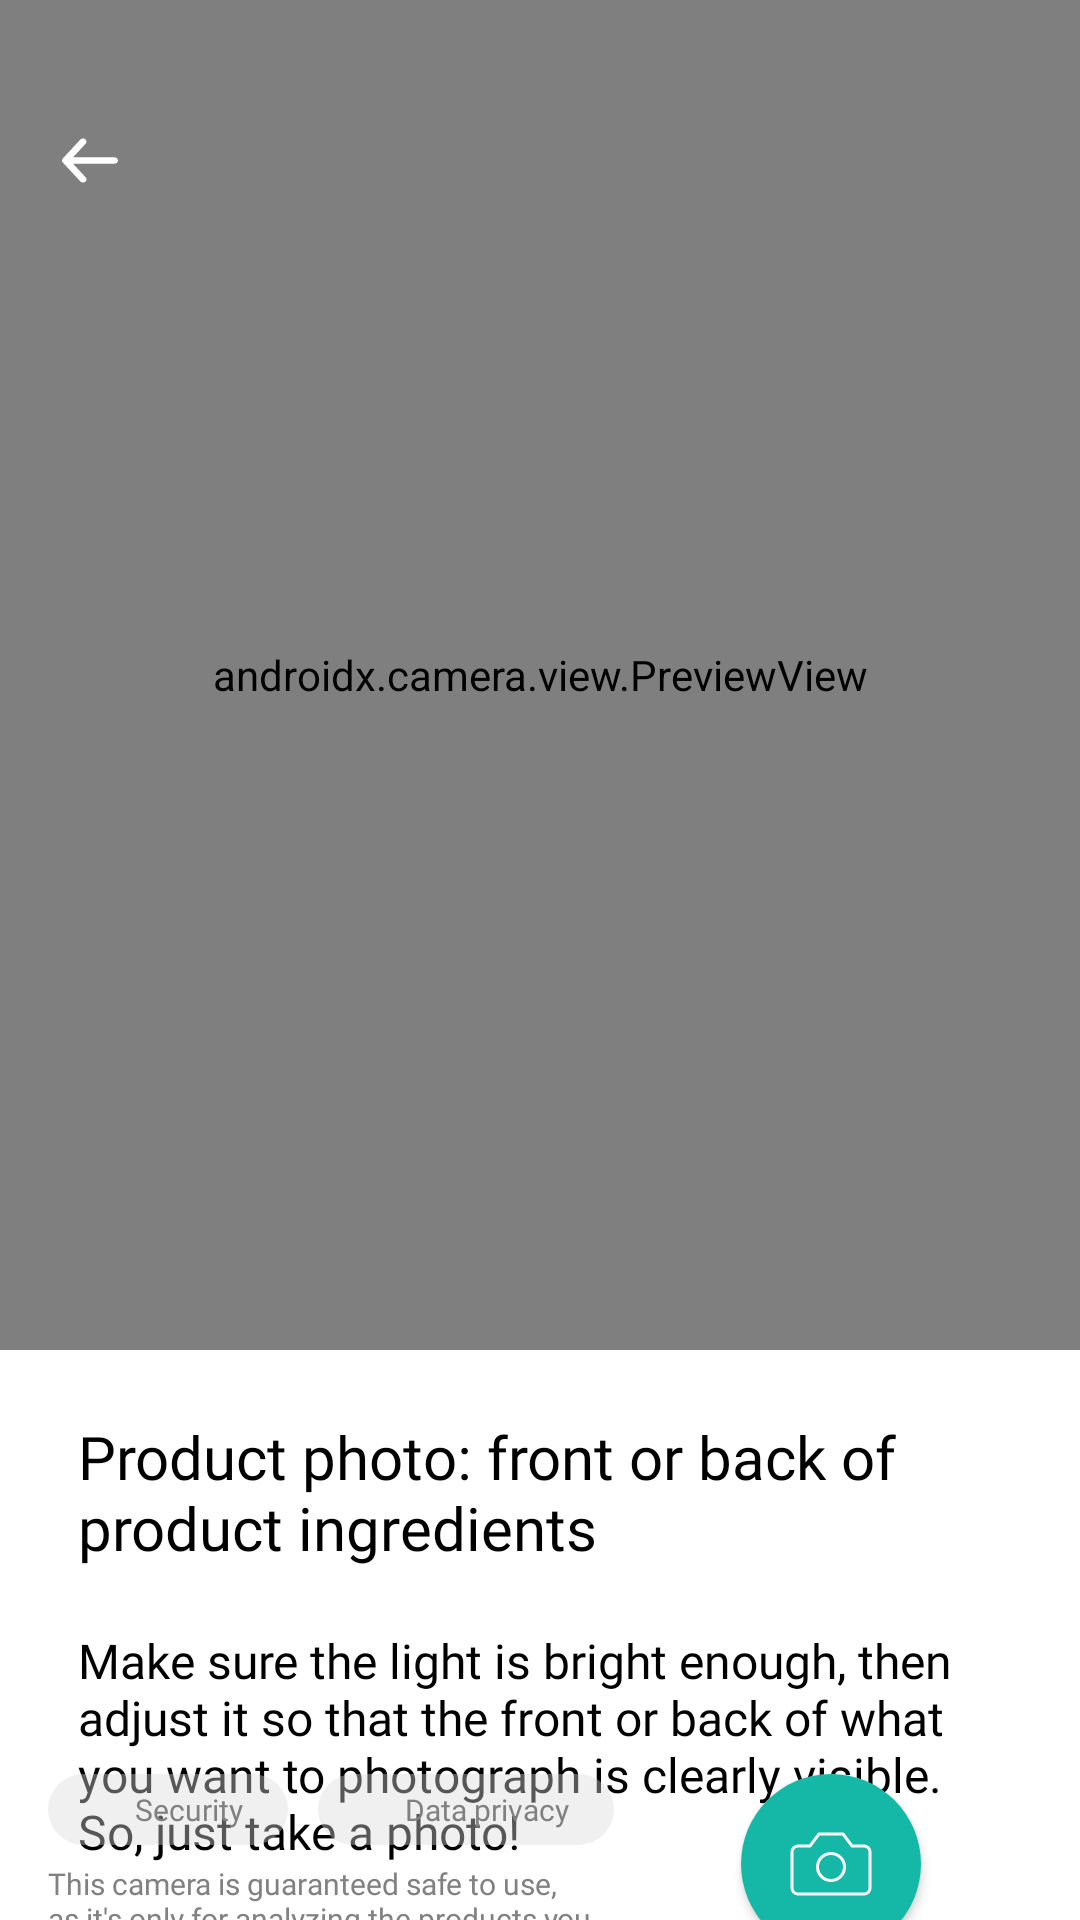

Locate icon controls on the screen. Image size 1080 x 1920, boxes as (x1, y1, x2, y2).
back arrow: (62, 138, 118, 183)
